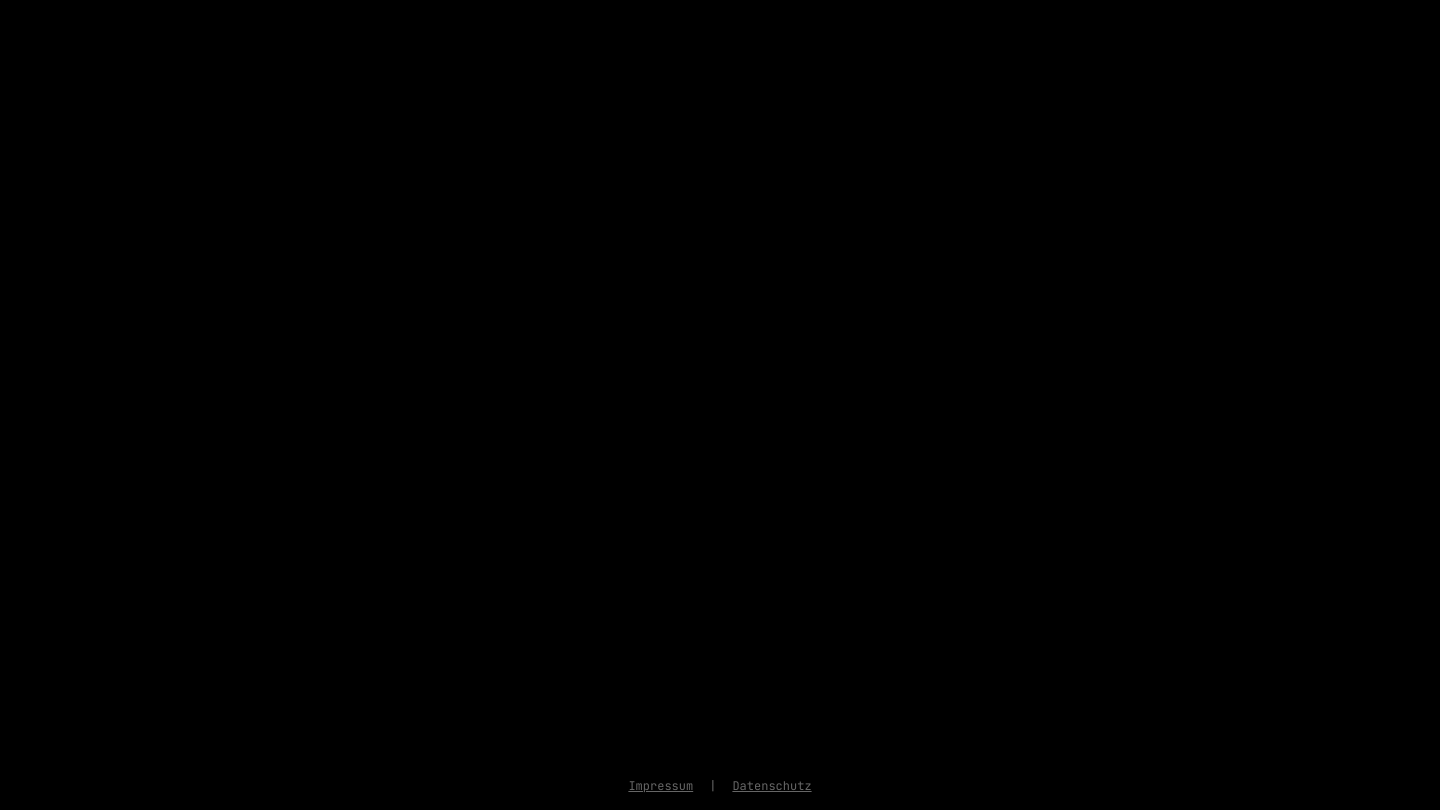
Test: App — main menu arrow-key navigation › opens the progressive new-game flow without a duplicate learning mode
The width and height of the screenshot is (1440, 810).
Press Enter
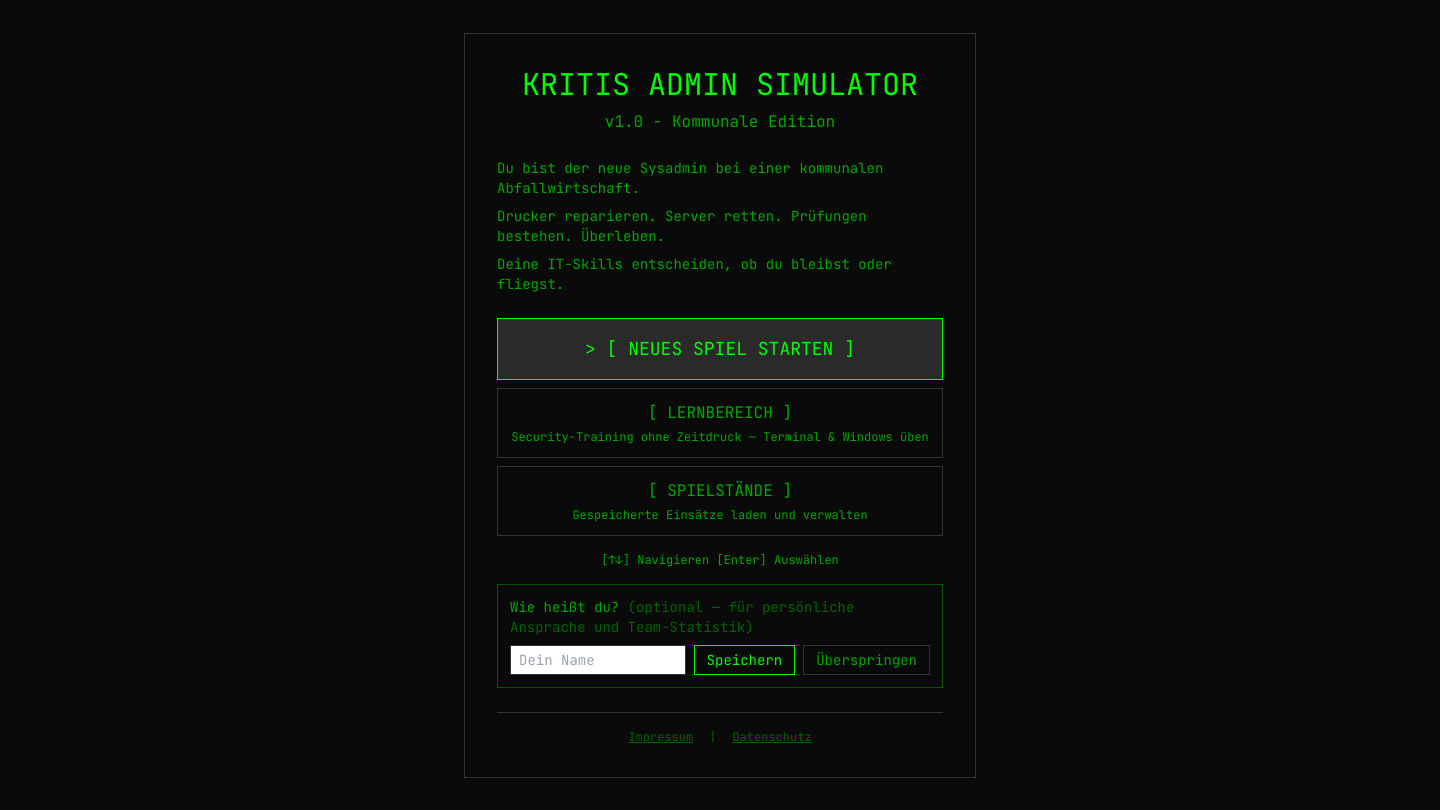
Click the button "> [ NEUES SPIEL STARTEN ]": (720, 348) [497, 318, 943, 380]
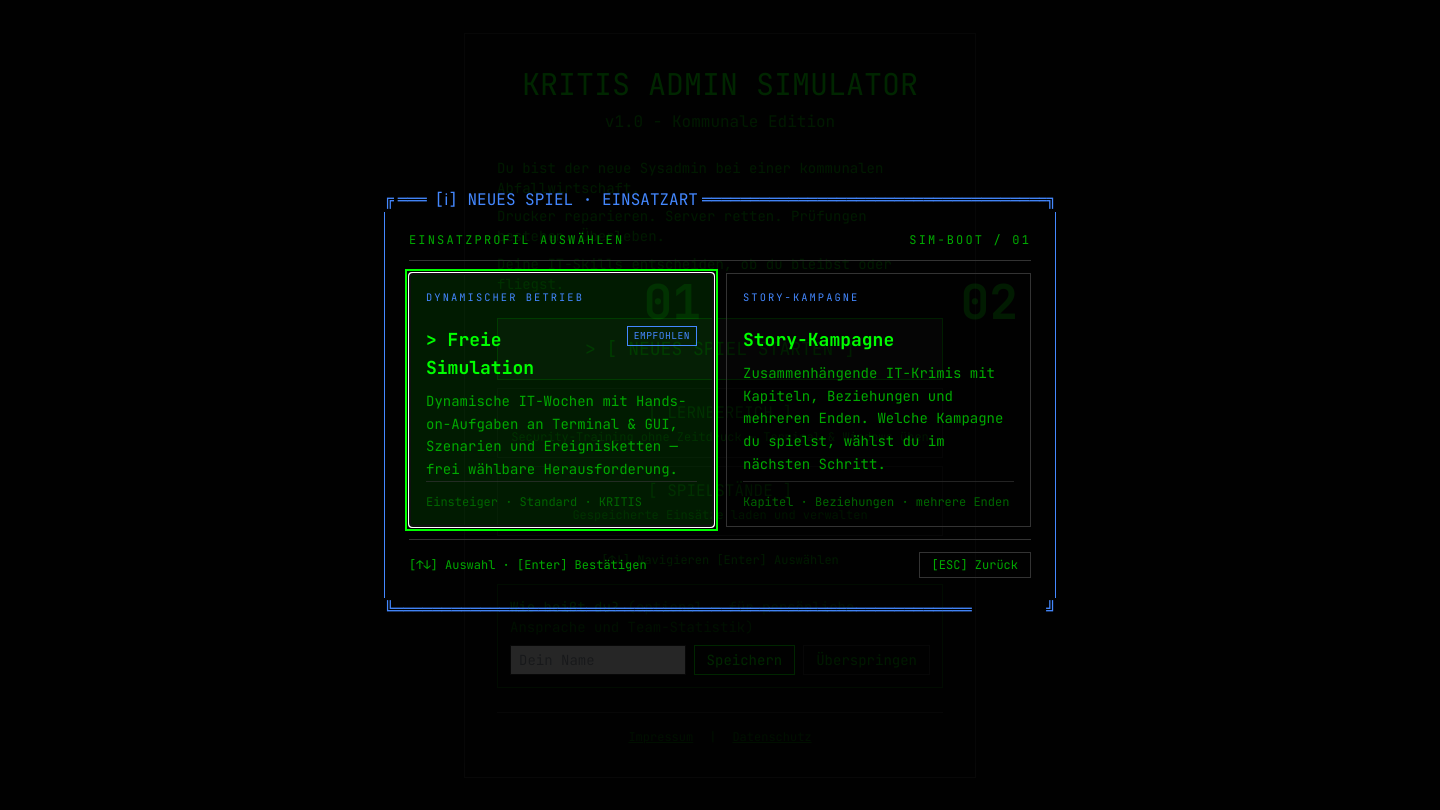
Expected: the button "STORY-KAMPAGNE" does not show "Die Probezeit", [726, 273, 1031, 527]
Expected: the button "Freie Simulation" is shown
Expected: the button "STORY-KAMPAGNE" is shown, [726, 273, 1031, 527]
Click the button "Freie Simulation": (562, 400) [409, 273, 714, 527]
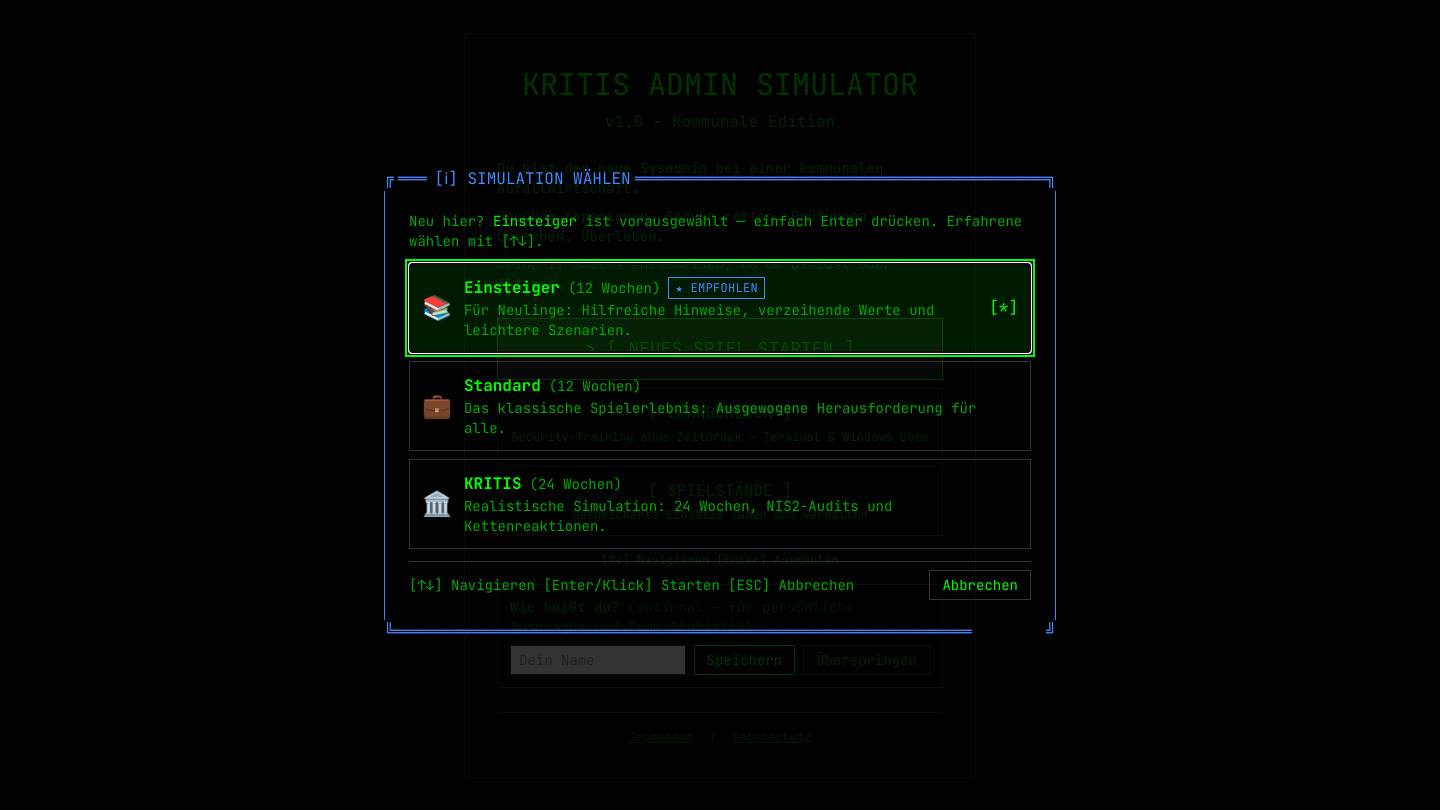
Expected: the button "Standard" is shown, [409, 360, 1031, 450]
Expected: the button "STORY-KAMPAGNE" is gone
Press Escape
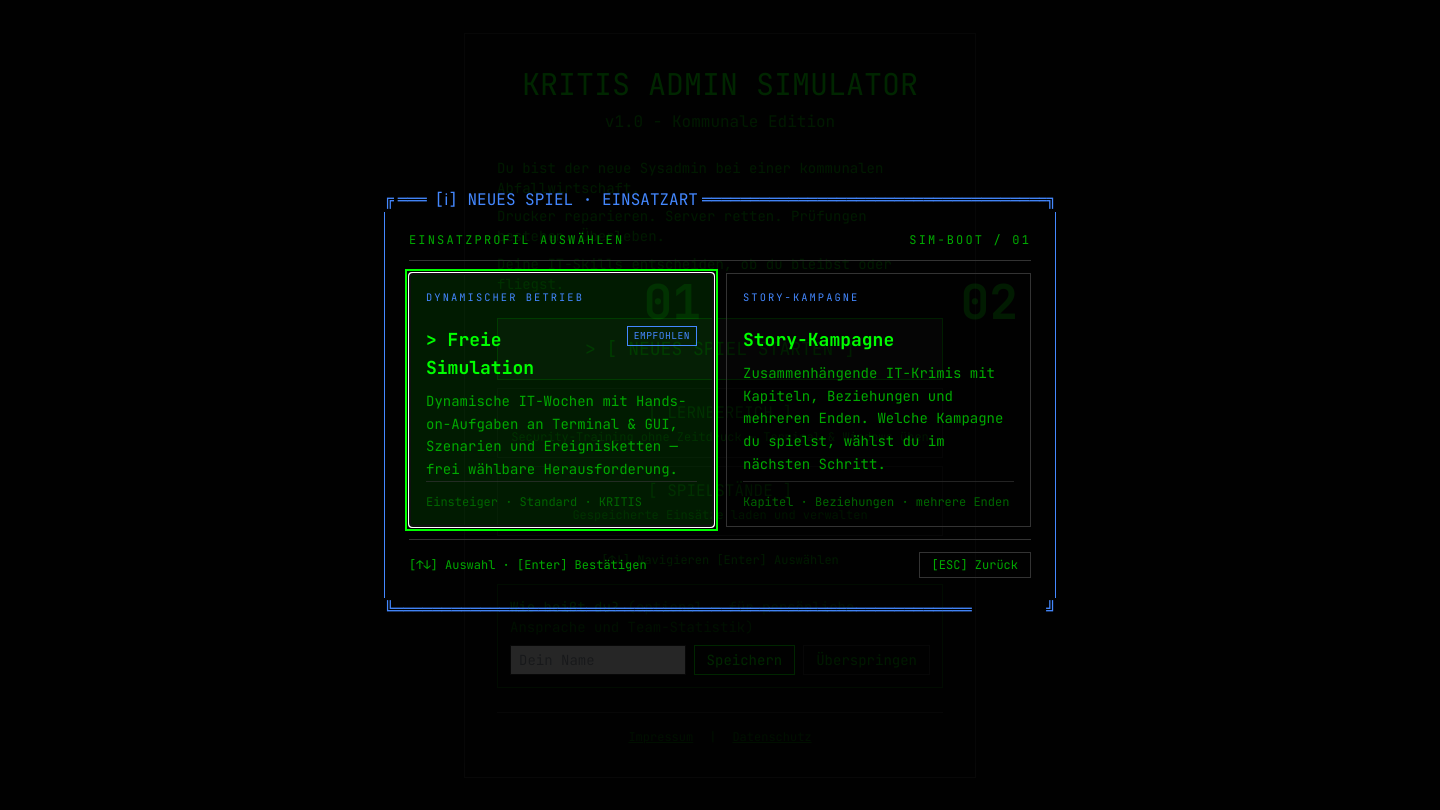
Expected: the button "Freie Simulation" is shown, [409, 273, 714, 527]
Press Escape
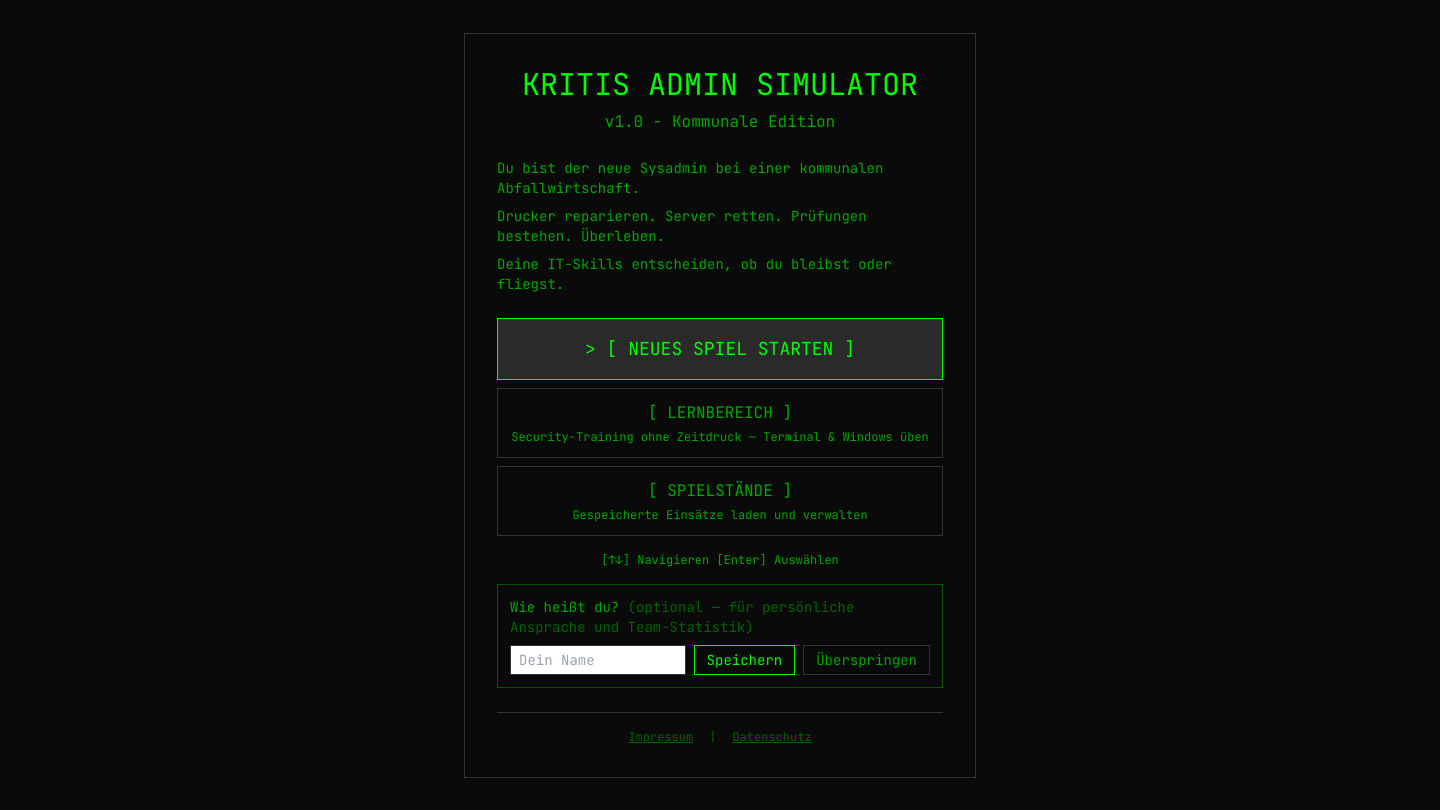
Expected: the dialog is gone
